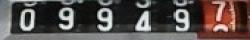digits: (210, 0, 230, 34), (134, 1, 152, 33), (172, 8, 190, 29), (96, 7, 113, 29), (58, 7, 74, 29), (19, 8, 35, 29)
